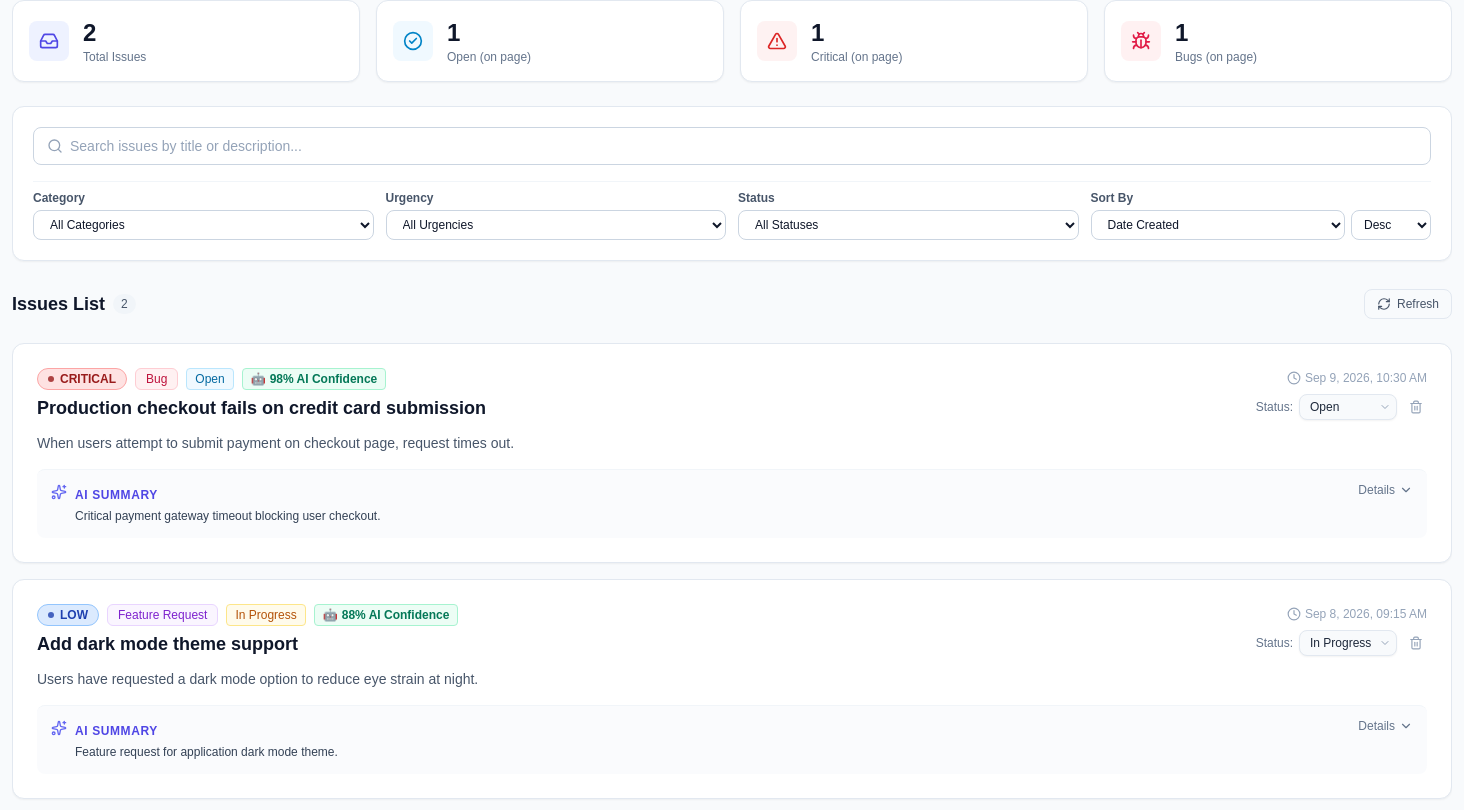
Test: Dashboard Component › handles issue deletion with confirmation
Check: the heading "Production checkout fails on credit card submission" is shown, box [37,396,486,421]
# Click the delete icon button for issue-1
Click the button with test id "delete-button-issue-1" at [1416, 407], box [1405,396,1427,418]
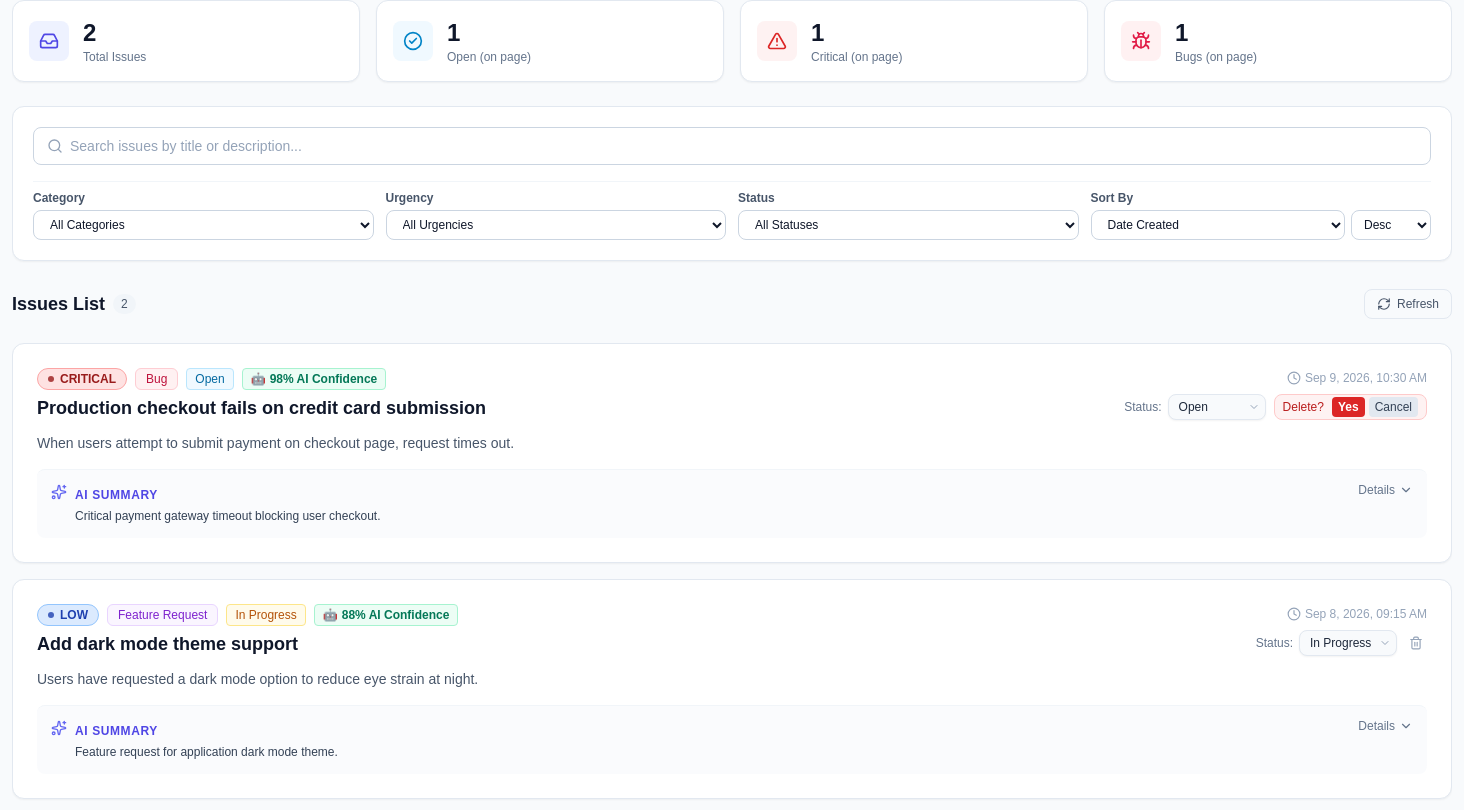
Check: the button with test id "confirm-delete-issue-1" is shown
Check: the button with test id "cancel-delete-issue-1" is shown, box [1369,397,1418,417]
# Confirm deletion
Click the button with test id "confirm-delete-issue-1" at [1348, 407], box [1332,397,1365,417]
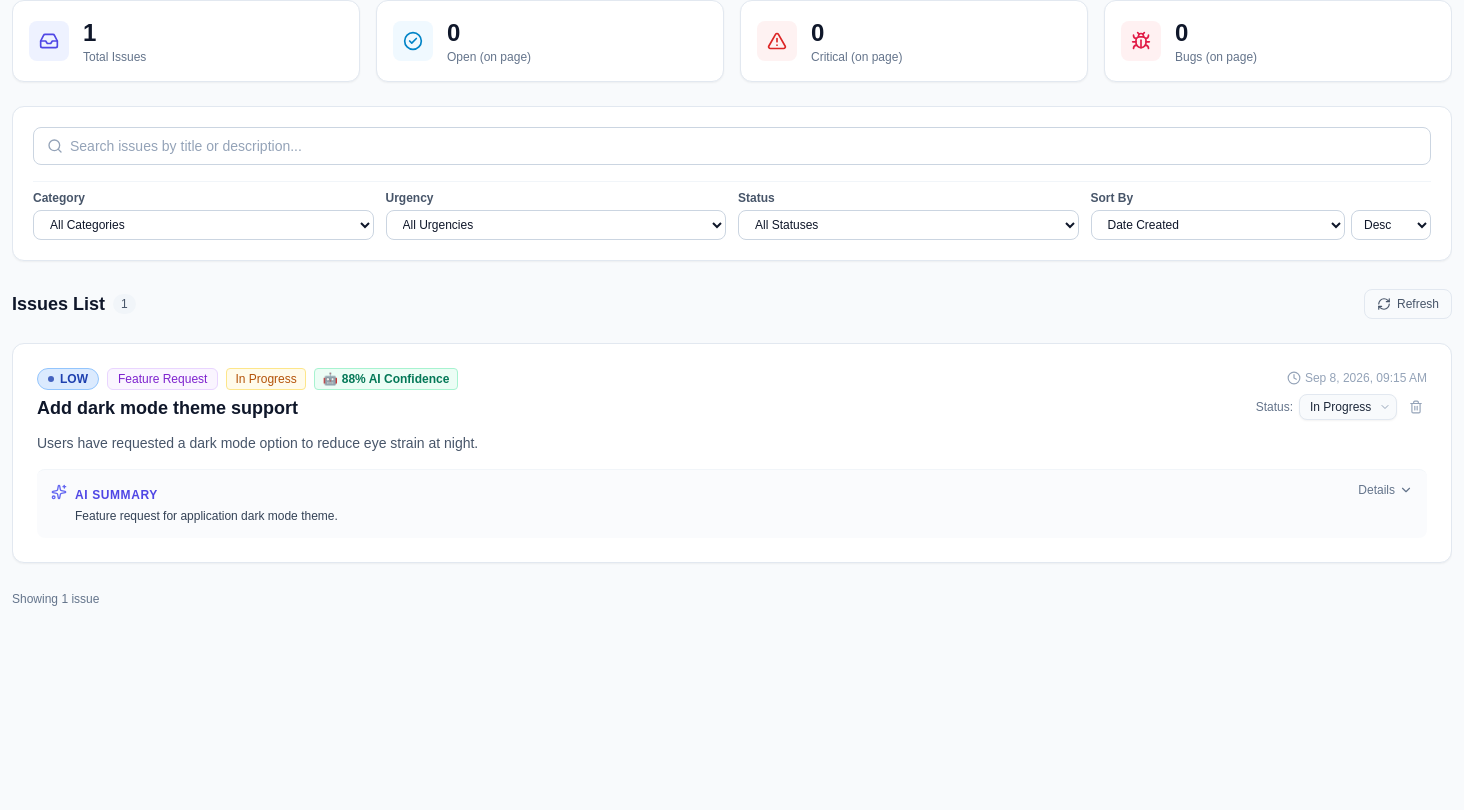
Check: the heading "Add dark mode theme support" is shown, box [37,398,298,418]
Check: the heading "Production checkout fails on credit card submission" is gone
